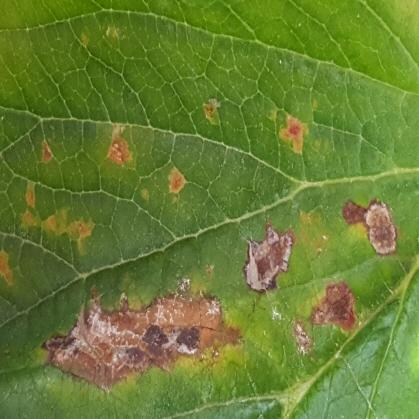Angular Leafspot: (0, 22, 402, 394)
